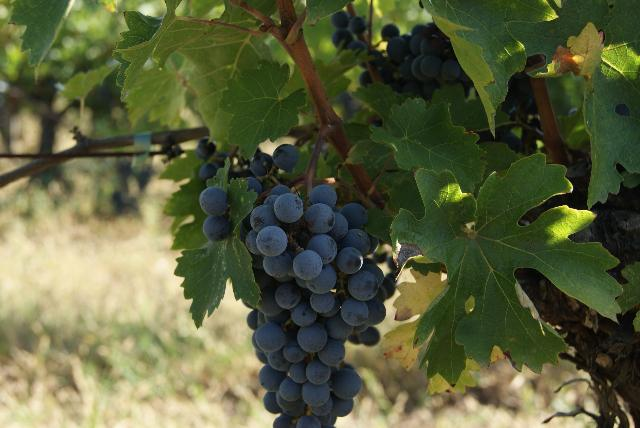grapes: (240, 184, 396, 428)
